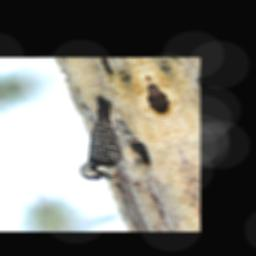Woodpecker: (50, 91, 152, 188)
